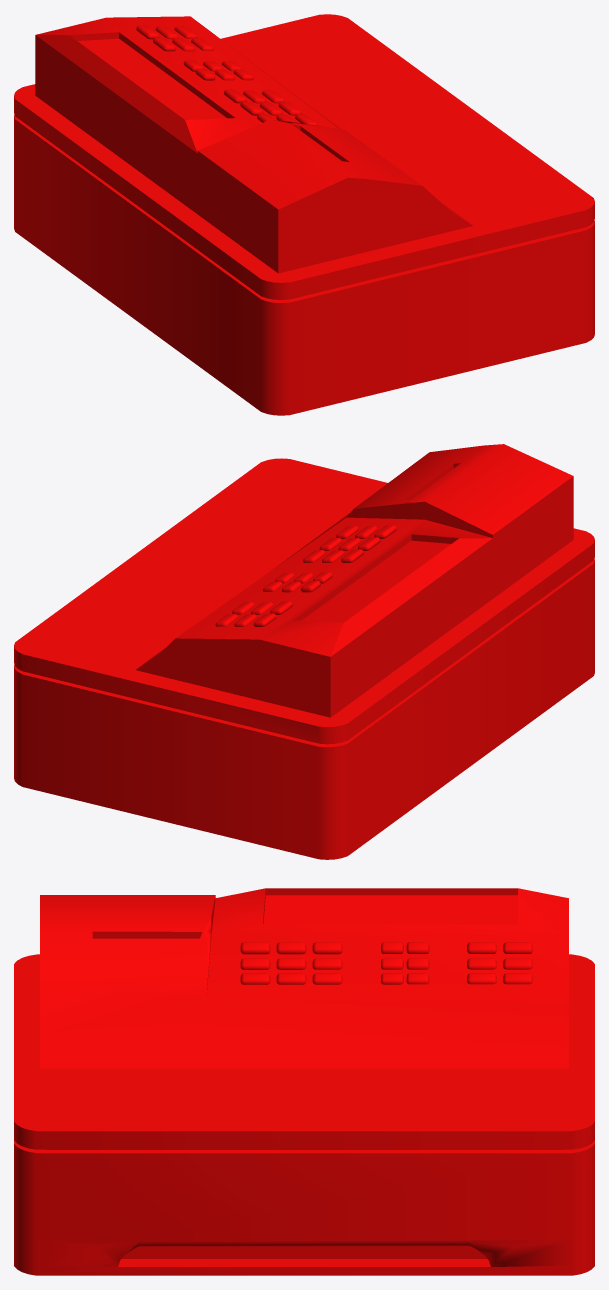
Rendered from Register.fbx.
3 views of the same model, one above another, from view 1: azimuth 30°, elevation 25°; view 2: azimuth 150°, elevation 25°; view 3: azimuth 270°, elevation 25° (orthographic). The views are drawn at different scales.
Visible parts, largest first — view 1: Rigester; view 2: Rigester; view 3: Rigester.
Boxes of the visible parts, box(x1,y1,x2,y2) form: Rigester: box(14, 14, 594, 415); Rigester: box(14, 444, 594, 859); Rigester: box(14, 888, 594, 1275).
Bounding box in the file's own units: 11.65 × 7.09 × 16.19.
